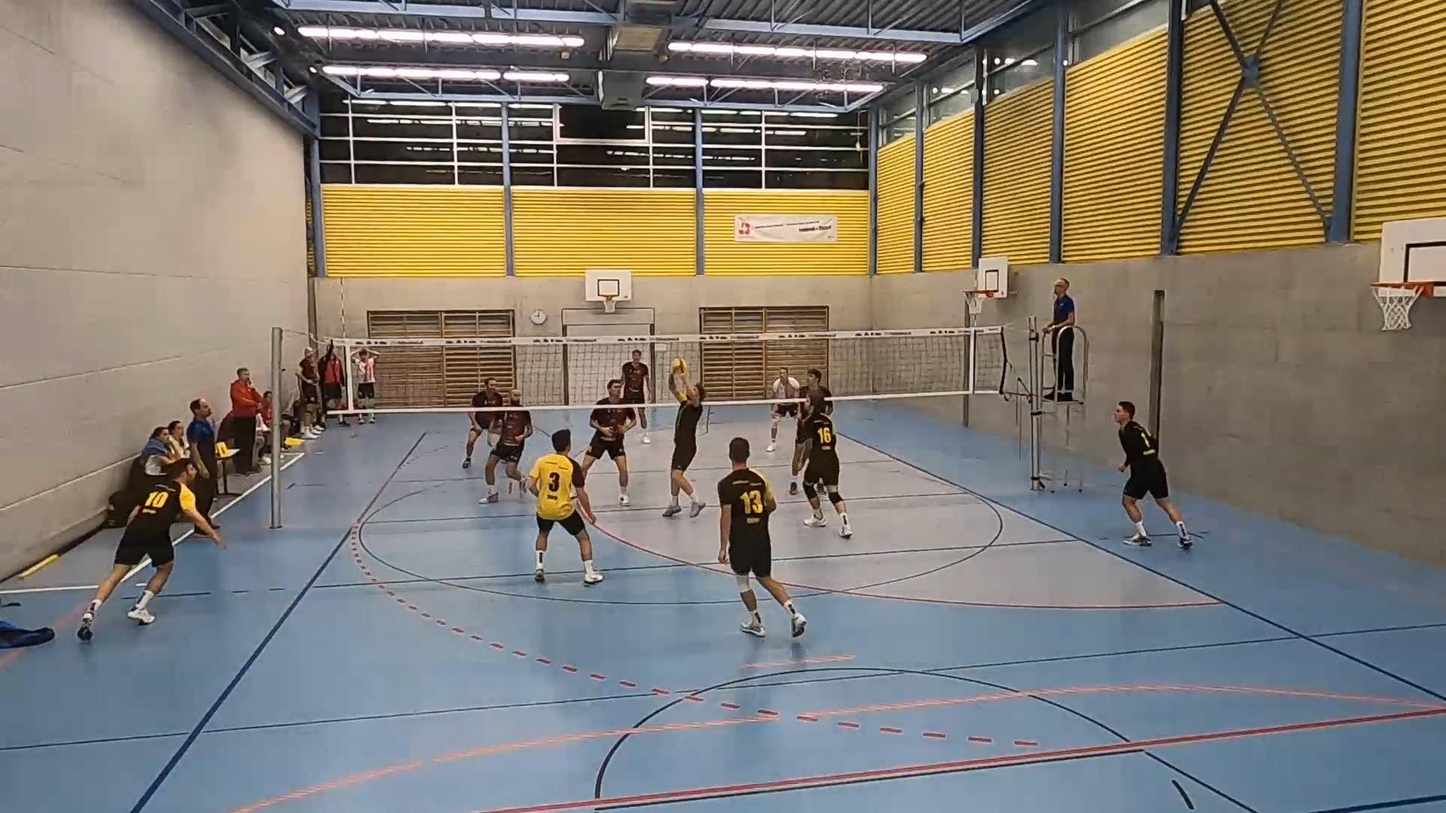Player: (78, 461, 225, 641), (718, 437, 806, 636), (1115, 401, 1192, 550), (529, 429, 602, 585), (803, 393, 851, 538), (581, 379, 636, 505), (481, 388, 533, 502), (789, 368, 832, 495), (766, 367, 798, 452), (462, 411, 497, 469), (621, 350, 651, 404)
Set: (668, 374, 712, 521)
ball: (667, 359, 688, 372)
